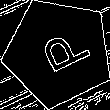P_SW: (27, 25, 89, 80)
